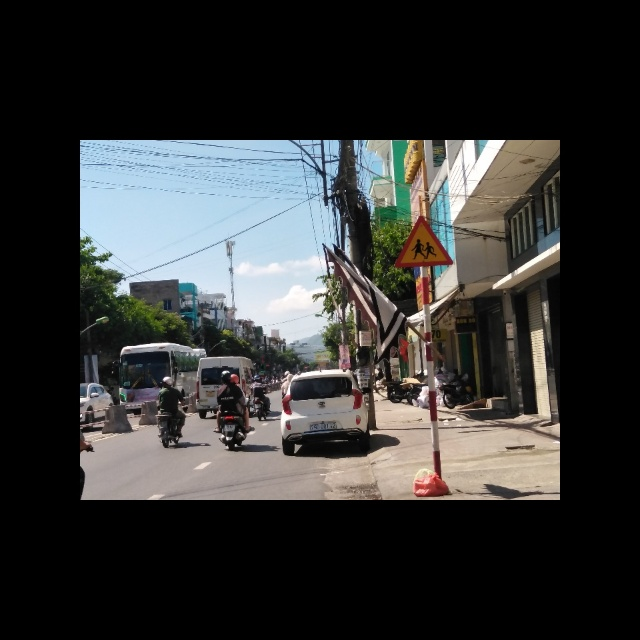Trẻ em ngang qua: (391, 213, 455, 267)
